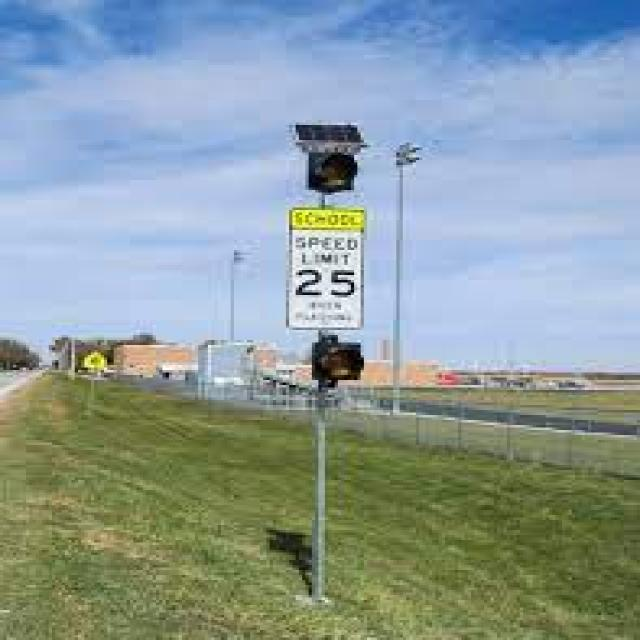speedLimit25: (287, 215, 368, 333)
